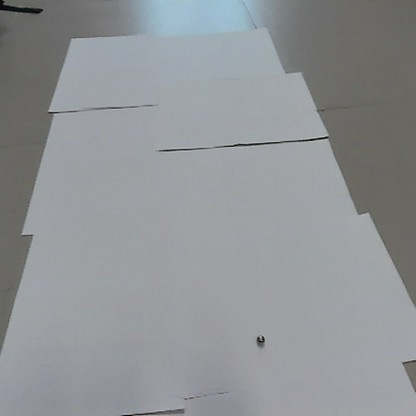ironball: (254, 333, 267, 345)
